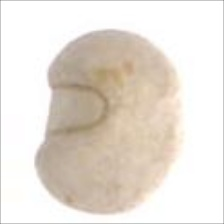L5: (40, 76, 115, 140), (162, 93, 188, 158)
L6: (32, 27, 185, 216)
